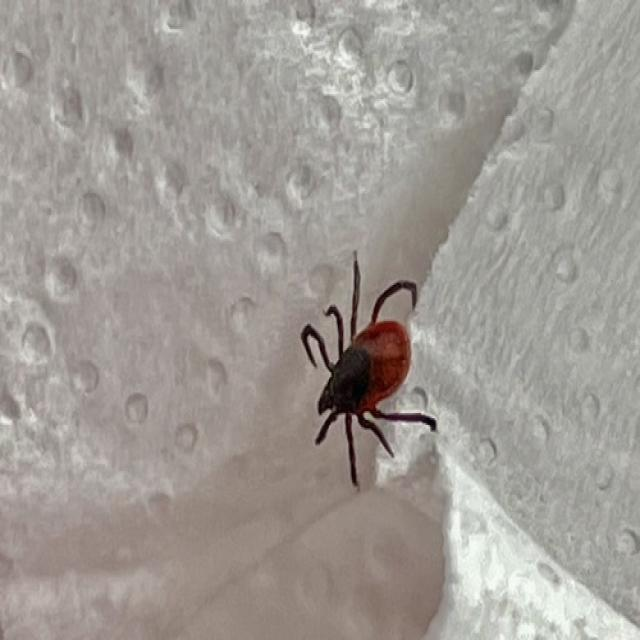Ixodes Ricinus-F: (302, 282, 438, 488)
